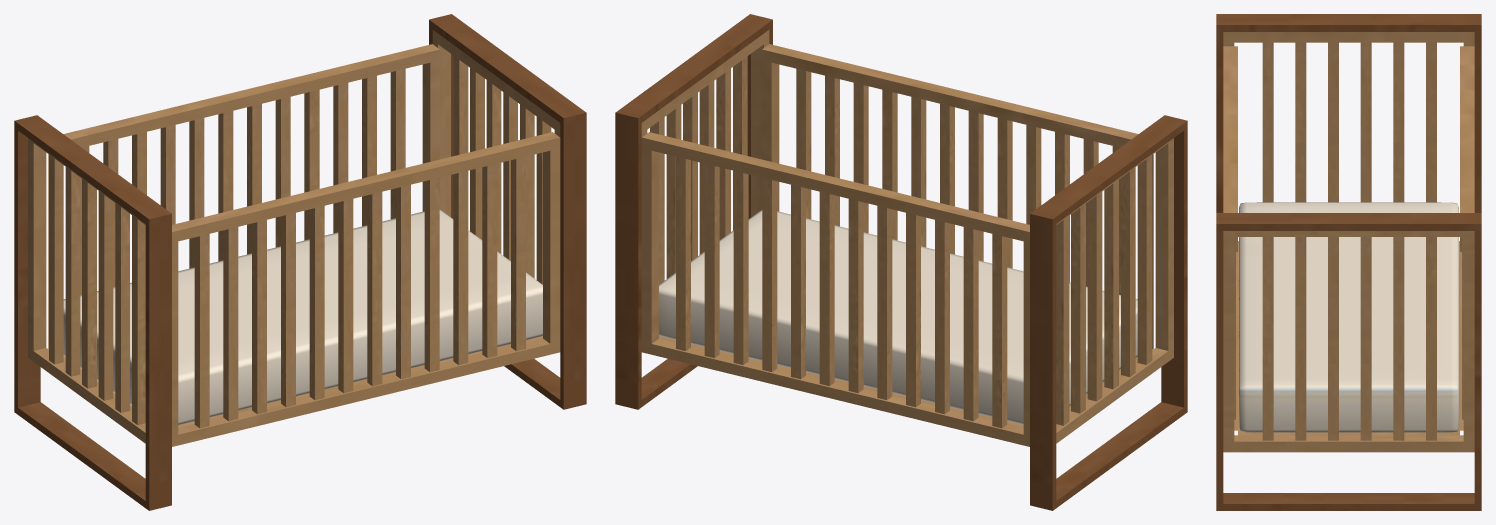
Rendered from Bed35.glb.
3 views of the same model, side by side, from view 1: azimuth 30°, elevation 25°; view 2: azimuth 150°, elevation 25°; view 3: azimuth 270°, elevation 25° (orthographic).
Visible parts, largest first — view 1: BedFrame35, Mattress35; view 2: BedFrame35, Mattress35; view 3: BedFrame35, Mattress35.
Boxes of the visible parts, x1,y1,x2,y2 form: BedFrame35: (14,14,586,510); Mattress35: (63,210,542,424); BedFrame35: (615,14,1187,510); Mattress35: (659,210,1137,424); BedFrame35: (1216,14,1481,510); Mattress35: (1239,202,1458,432).
Bounding box in the file's own units: 3.11 × 1.98 × 1.66.
2 materials, 2 textured.
